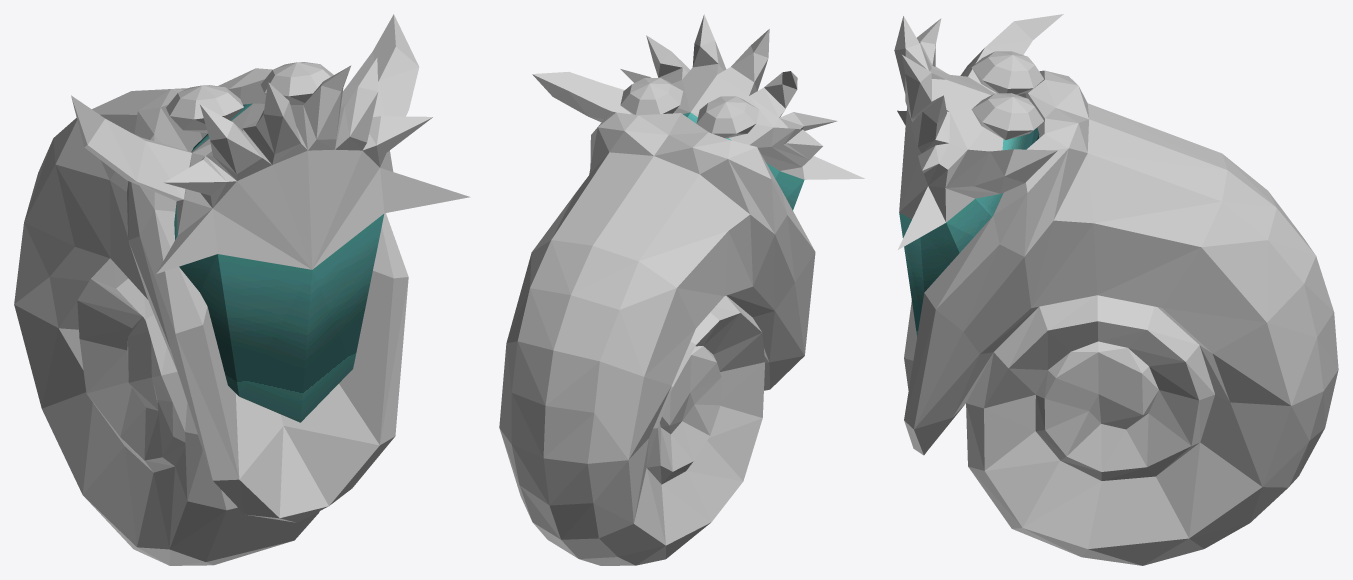
The model's file is BR_Omanyte.obj.
3 renders of one model, left to right at view 1: azimuth 30°, elevation 25°; view 2: azimuth 150°, elevation 25°; view 3: azimuth 270°, elevation 25°, orthographic. The views are drawn at different scales.
Parts seen in each view (by area): view 1: omnite; view 2: omnite; view 3: omnite.
Part boxes in pixels (<box>): omnite: <box>14,14,470,565</box>; omnite: <box>499,14,864,565</box>; omnite: <box>894,14,1338,565</box>.
Bounding box in the file's own units: 3.02 × 4.94 × 3.82.
